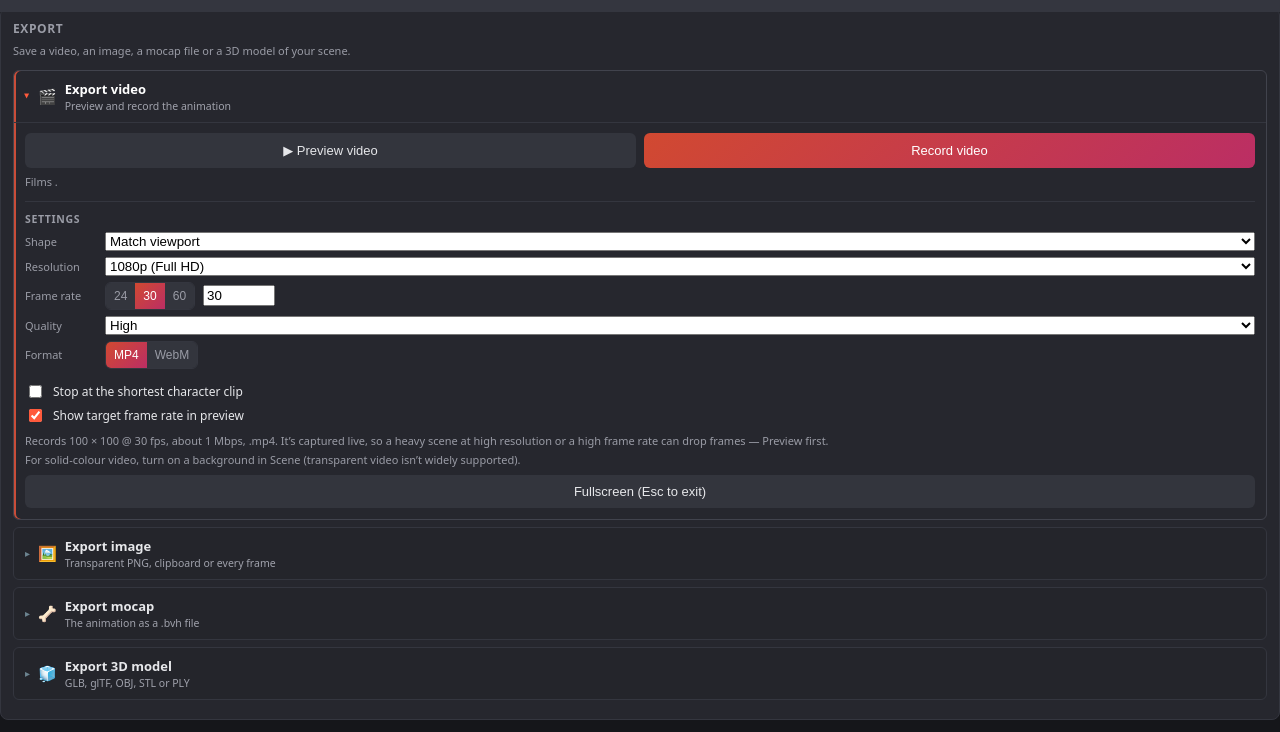
Export panel — 3D model formats › defaults to GLB, listing rigged formats before static ones
Click the button "▸ 🧊 Export 3D model GLB, glTF, OBJ, STL or PLY" at (118, 666), box [14,648,1266,698]
(page scrolled)
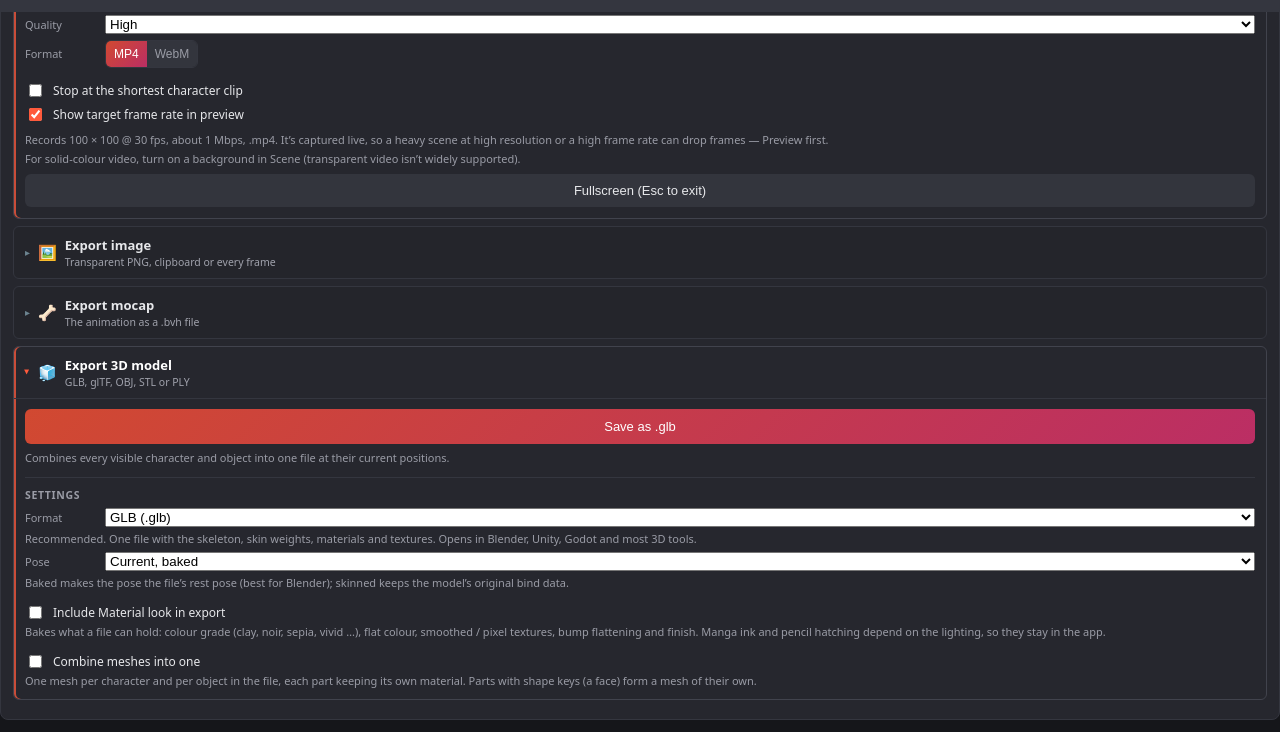
expect the dropdown named "3D model format" shows "GLB (.glb)": met, box [105,508,1255,526]
